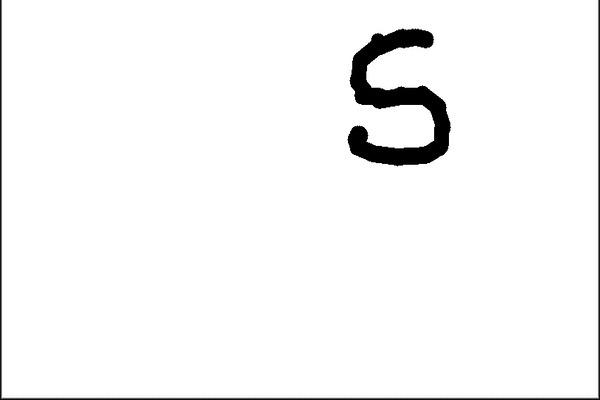S: (339, 25, 457, 171)
